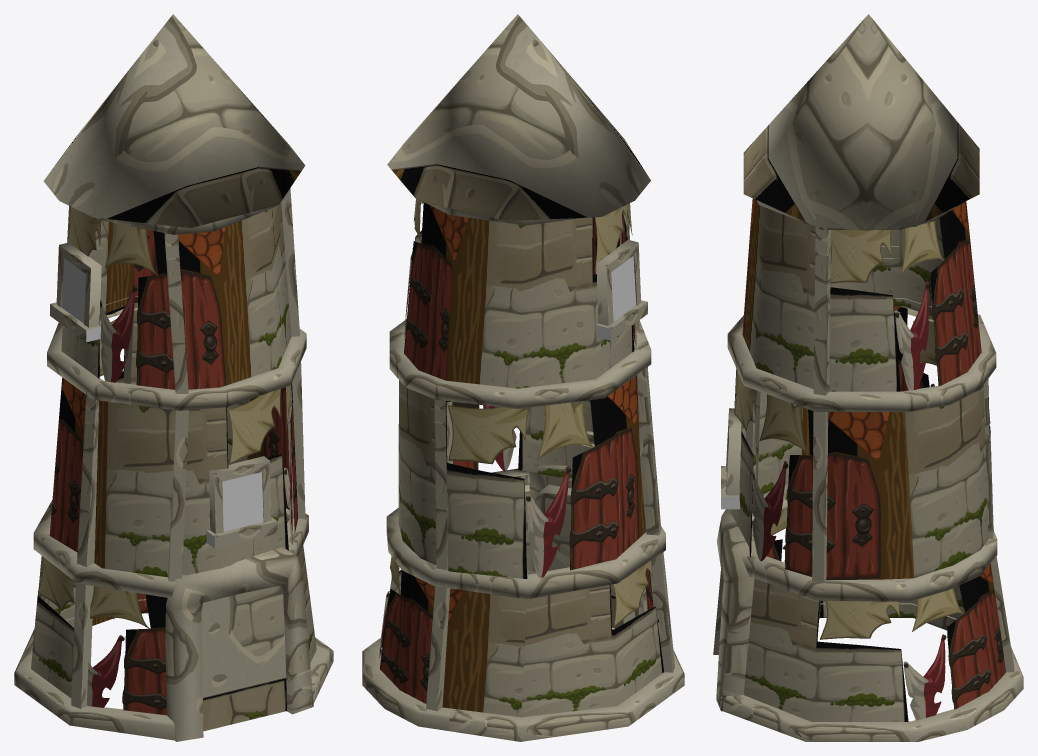
The model's file is Mill_mobile.FBX.
3 renders of one model, left to right at view 1: azimuth 30°, elevation 25°; view 2: azimuth 150°, elevation 25°; view 3: azimuth 270°, elevation 25°, orthographic.
Parts seen in each view (by area): view 1: Mill_mobile; view 2: Mill_mobile; view 3: Mill_mobile.
Part boxes in pixels (<box>): Mill_mobile: <box>14,14,333,741</box>; Mill_mobile: <box>362,14,684,741</box>; Mill_mobile: <box>713,14,1023,741</box>.
Bounding box in the file's own units: 4.16 × 9.88 × 4.18.
